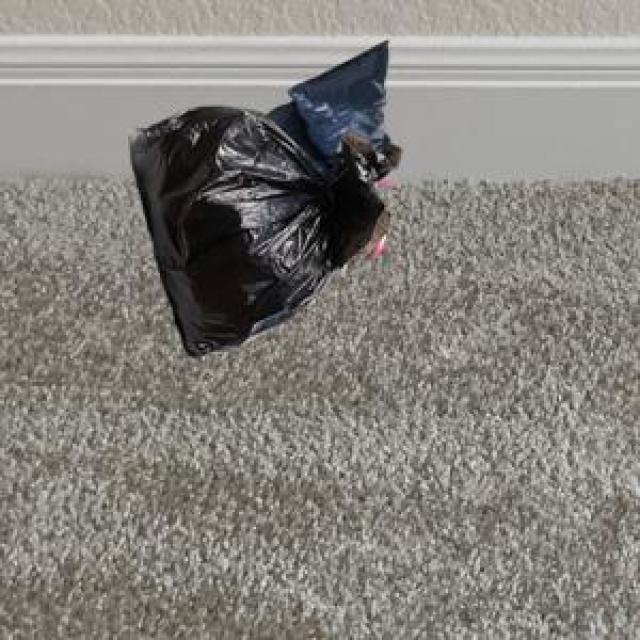Trashbag: (128, 103, 320, 359), (288, 40, 400, 160)
